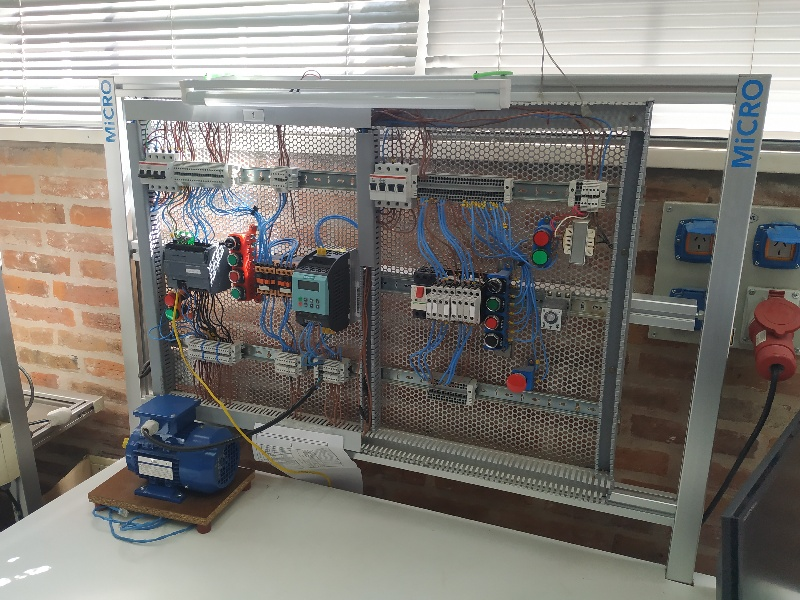Tablero 1: (127, 109, 622, 497)
